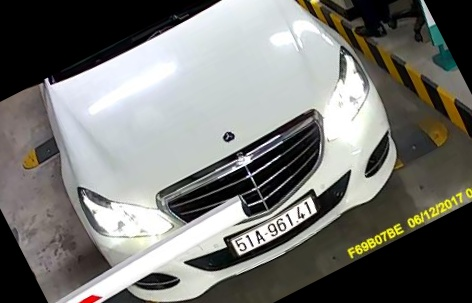plate: (220, 190, 322, 257)
